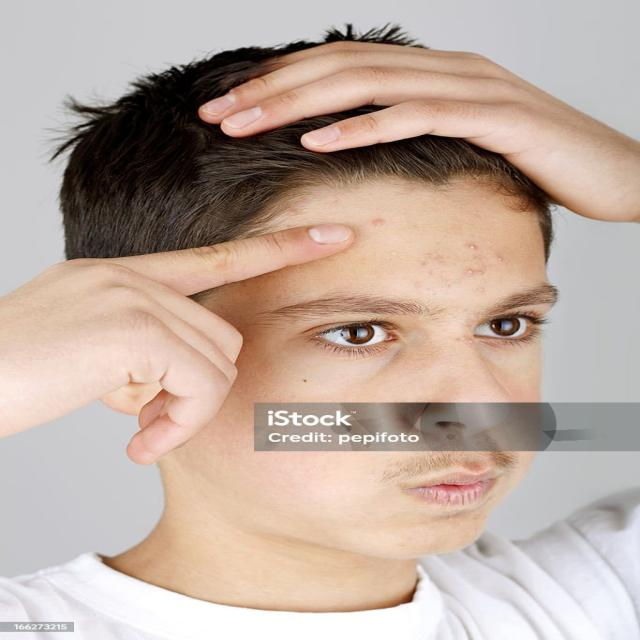papule: (368, 215, 389, 228)
pustule: (464, 242, 480, 253), (496, 254, 508, 262), (466, 268, 474, 276), (478, 269, 486, 277)
